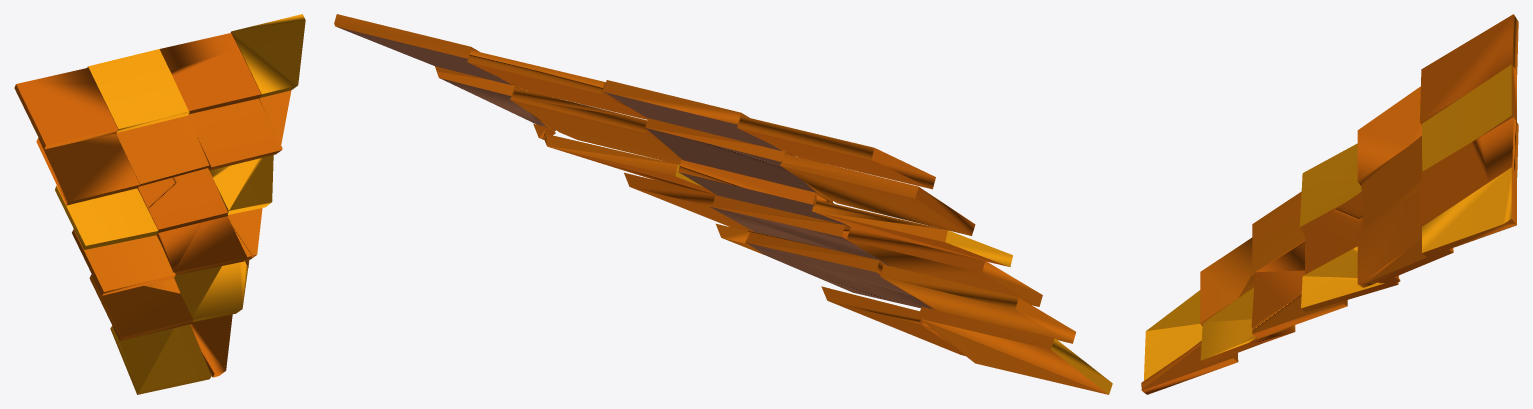
Rendered from roof wood 3.fbx.
3 views of the same model, side by side, from view 1: azimuth 30°, elevation 25°; view 2: azimuth 150°, elevation 25°; view 3: azimuth 270°, elevation 25° (orthographic). The views are drawn at different scales.
Parts seen in each view (by area): view 1: roof_wood_3; view 2: roof_wood_3; view 3: roof_wood_3.
Boxes of the visible parts, box(x1,y1,x2,y2) form: roof_wood_3: box(14, 14, 305, 394); roof_wood_3: box(334, 14, 1112, 394); roof_wood_3: box(1141, 14, 1518, 394).
Bounding box in the file's own units: 238 × 176 × 183.
1 material, 1 textured.
